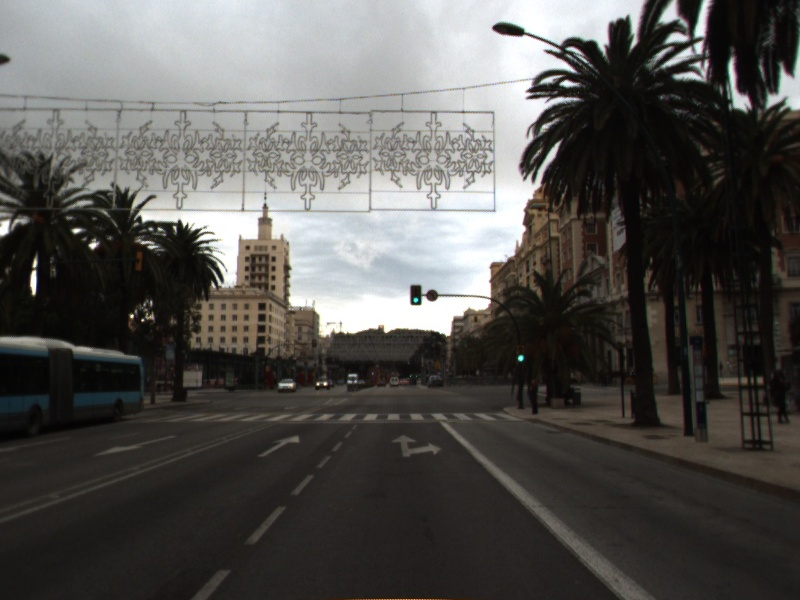STRAIGHT: (255, 432, 301, 459)
STRAIGHT_RIGHT: (388, 432, 444, 460)
